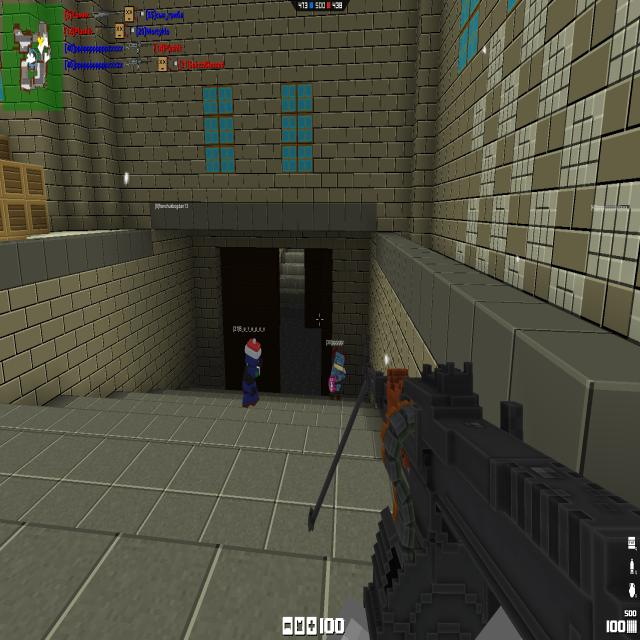player: (242, 339, 261, 410), (328, 349, 346, 399)
